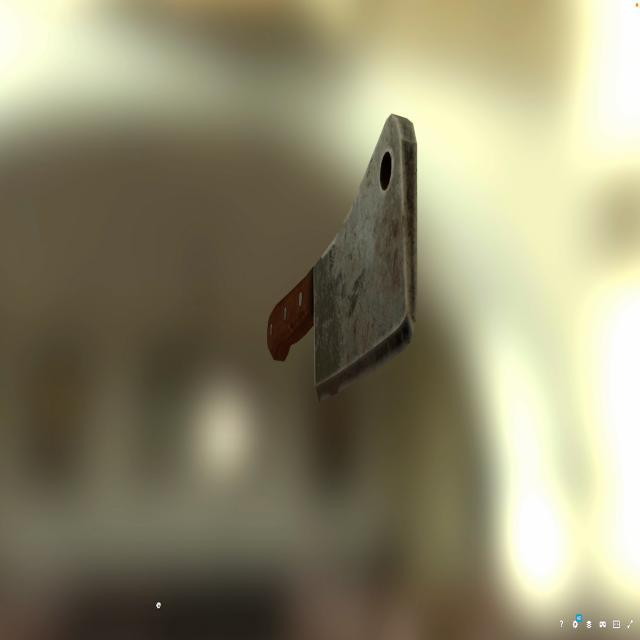cleaver: (265, 110, 423, 400)
